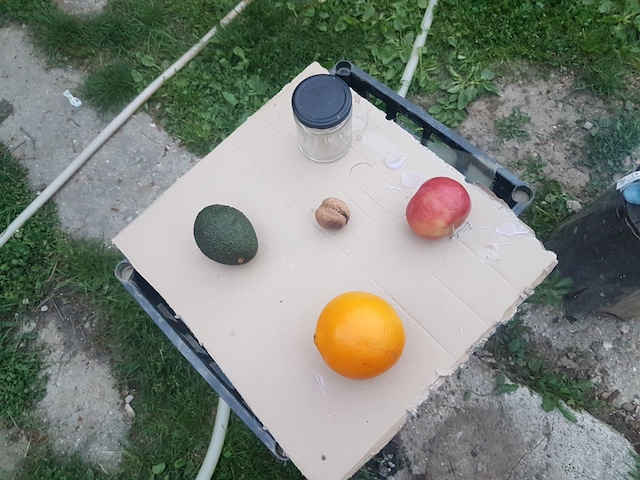apple: (403, 176, 475, 240)
avocado: (190, 198, 262, 267)
nut: (313, 193, 350, 233)
orange: (309, 285, 408, 384)
recipient: (293, 68, 352, 130)
